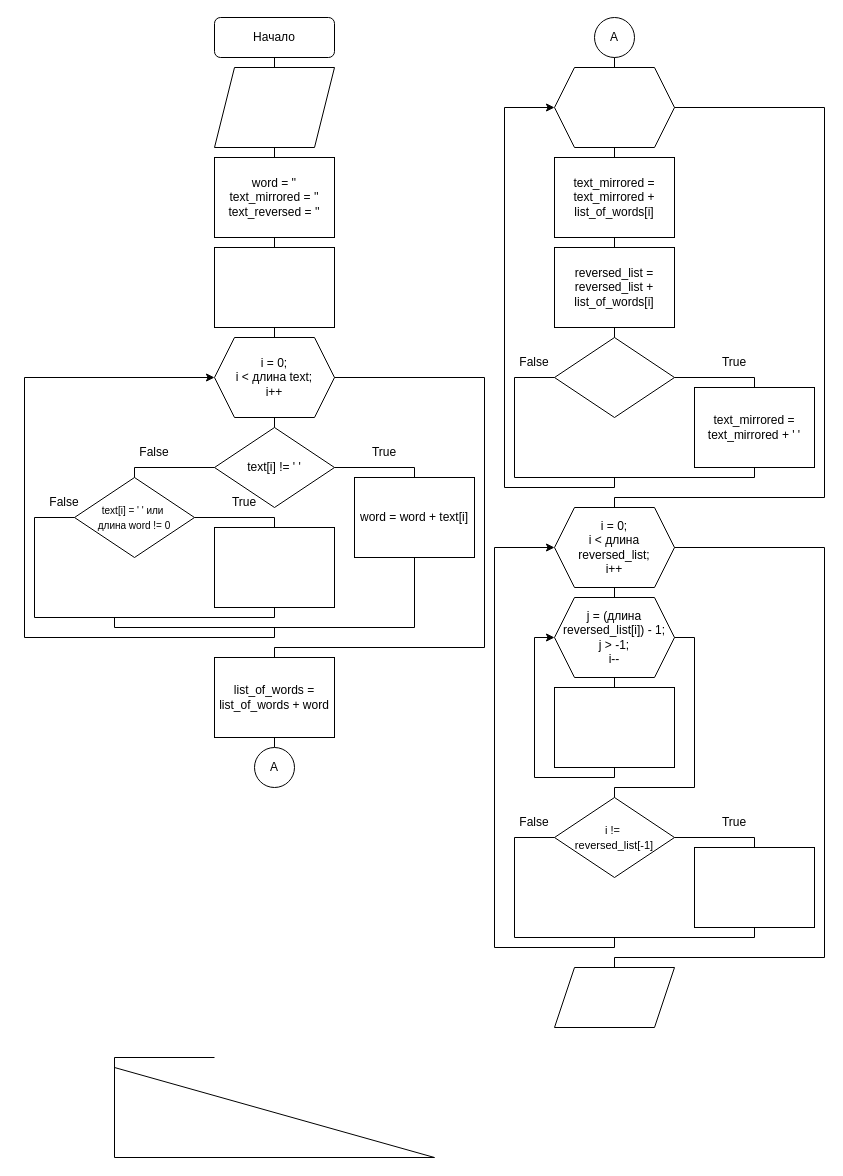
Some shapes in this 843 by 1176 pixel diagram are drawn without their labels. The box of each missing label's shape, as (x1, y1, x2, y2) in pixels:
i != 0: (554, 336, 674, 418)
i = (длина list_of_words) - 1; i > -1; i--: (554, 66, 674, 148)
list_of_words = list_of_words + word word = '': (214, 526, 334, 608)
text_reversed = text_reversed + ' ': (694, 846, 814, 928)
text_reversed = text_reversed + reversed_list[i][j]: (554, 686, 674, 768)
Ввод text: (214, 66, 334, 148)
Вывод text_reversed: (554, 966, 674, 1028)
Список list_of_words длины 0; Список reversed_list длины 0;: (214, 246, 334, 328)
